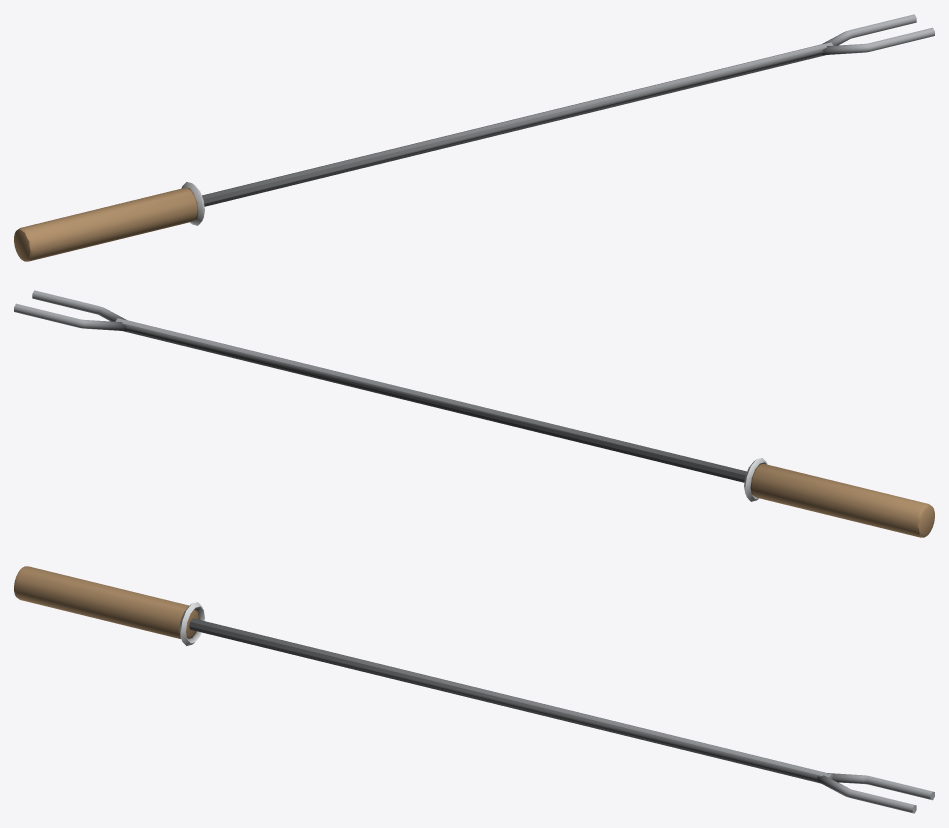
The model's file is cook_spit.glb.
3 renders of one model, top to bottom at view 1: azimuth 30°, elevation 25°; view 2: azimuth 150°, elevation 25°; view 3: azimuth 330°, elevation 25°, orthographic.
Parts seen in each view (by area): view 1: PART; view 2: PART; view 3: PART.
Part boxes in pixels (left/top/right/bottom): PART: left=14, top=14, right=934, bottom=261; PART: left=14, top=290, right=934, bottom=537; PART: left=14, top=566, right=934, bottom=813.
Bounding box in the file's own units: 0.685 × 0.03 × 0.03.
